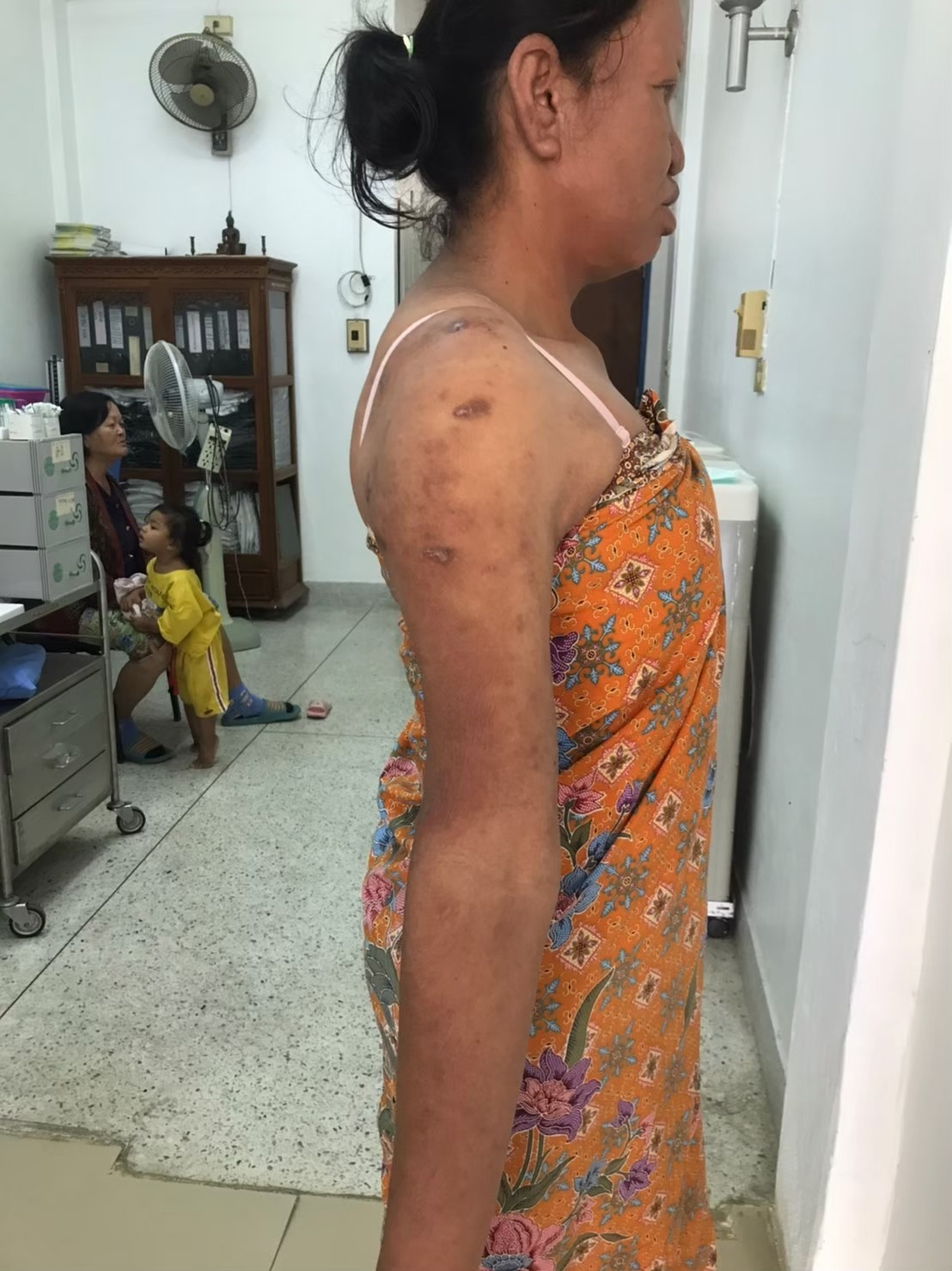Leprosy: (511, 31, 569, 168), (434, 390, 502, 439), (428, 301, 497, 344), (406, 532, 472, 576)
